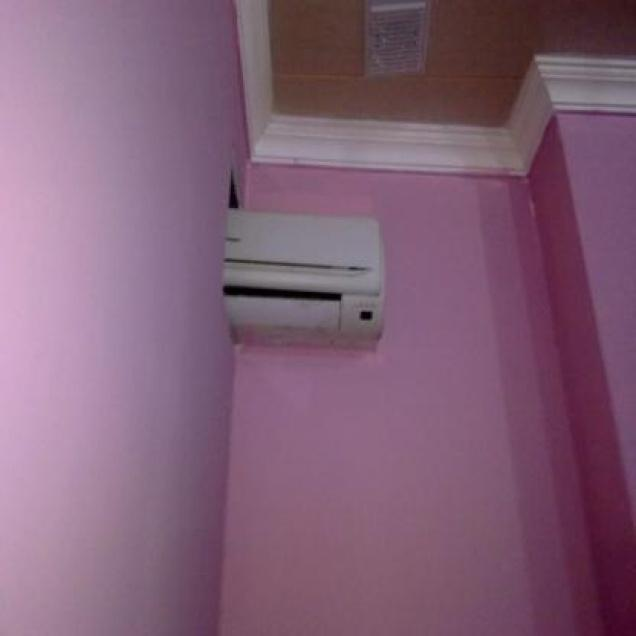AC: (222, 206, 385, 348)
